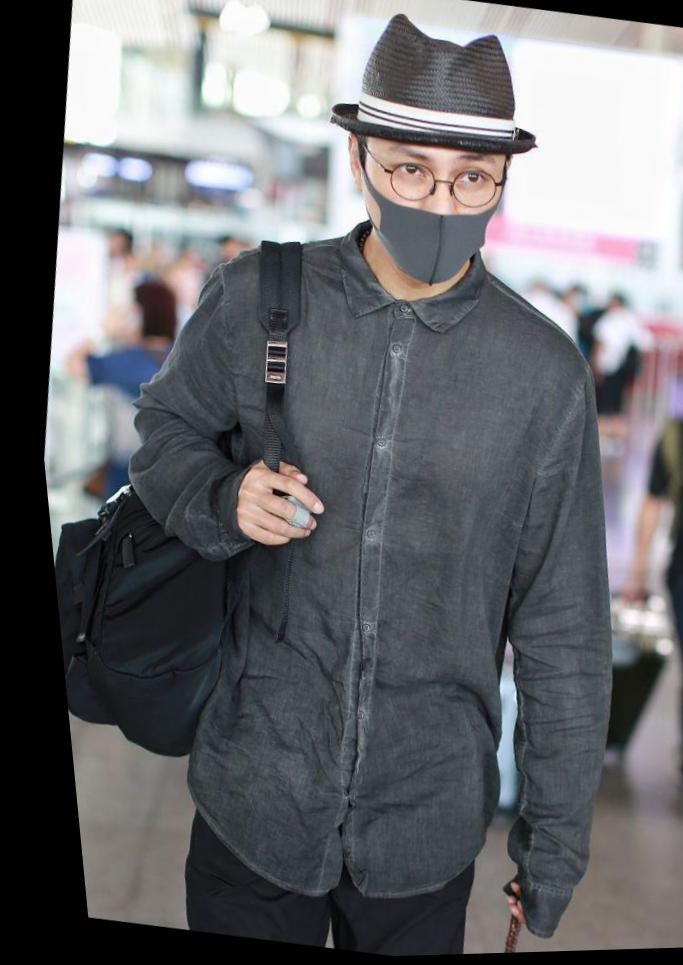WRONG: (350, 135, 517, 304)
